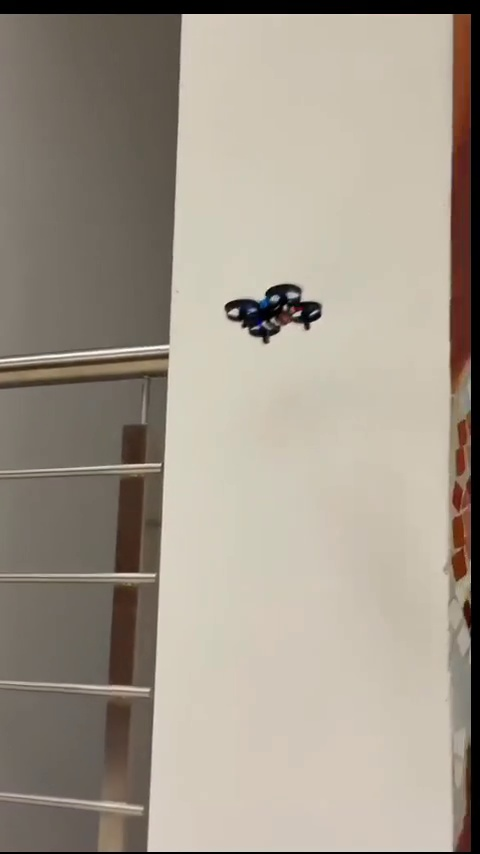drone: (226, 280, 324, 337)
